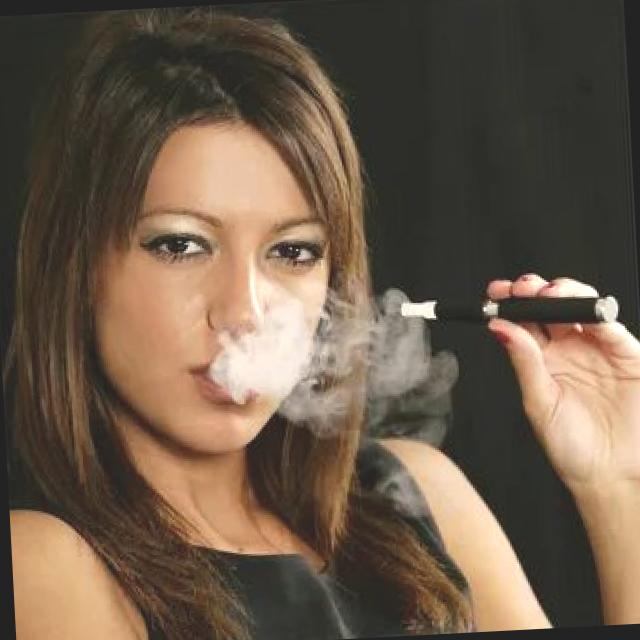cigarette: (379, 284, 625, 341)
